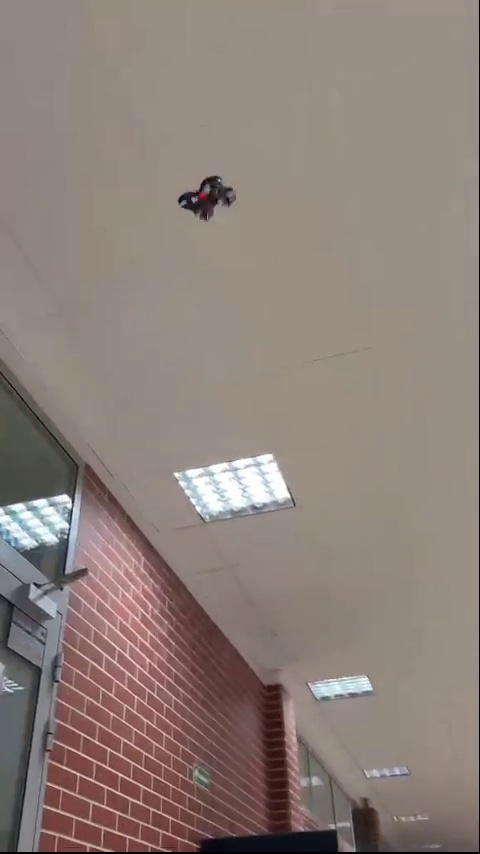drone: (177, 172, 236, 222)
